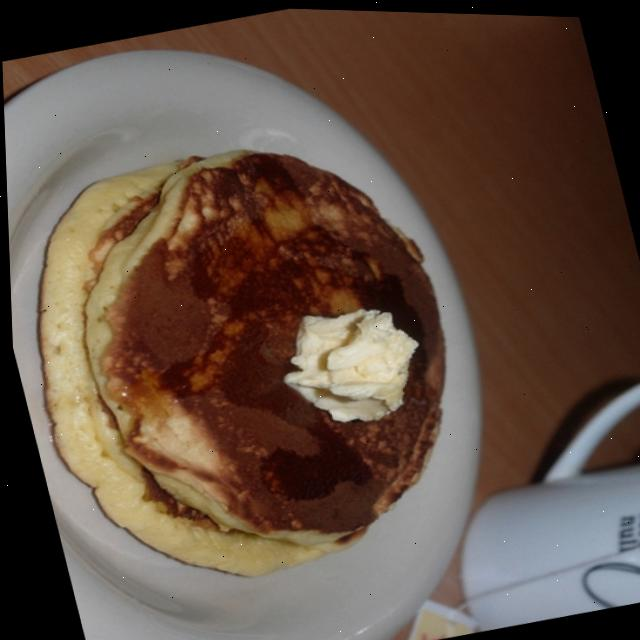蛋糕甜品: (3, 96, 497, 608)
